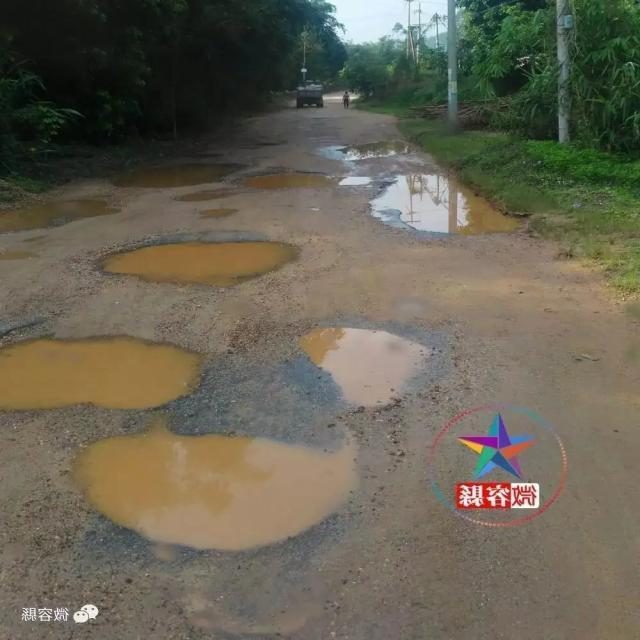pothole: (71, 430, 360, 553), (1, 331, 214, 415), (295, 323, 434, 416), (365, 166, 518, 240), (93, 239, 303, 288), (105, 160, 236, 191), (1, 201, 115, 236), (244, 167, 351, 198), (326, 133, 425, 163), (194, 204, 242, 224)
